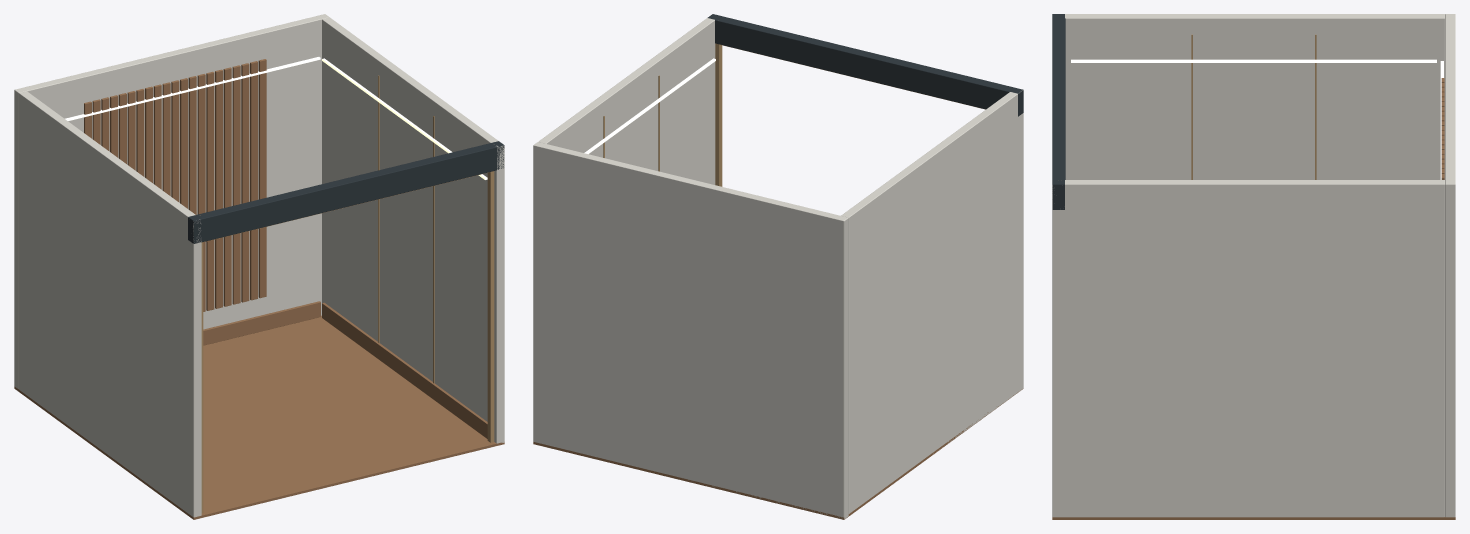
File: booth-10x10.glb
3 views of the same model, side by side, from view 1: azimuth 30°, elevation 25°; view 2: azimuth 150°, elevation 25°; view 3: azimuth 270°, elevation 25° (orthographic). The views are drawn at different scales.
Visible parts, largest first — view 1: mesh_side_-1, mesh_side_1, inset_oak_floor, mesh_rear, mesh_branding, oak_side_plinth_1, bronze_entry_post_1, rear_oak_plinth, oak_accent_slat_14, oak_accent_slat_18, oak_accent_slat_16, oak_accent_slat_17 (+16 smaller); view 2: mesh_rear, mesh_side_-1, mesh_side_1, mesh_branding, inset_oak_floor, bronze_entry_post_1, warm_side_wash_1; view 3: mesh_side_1, mesh_side_-1, mesh_rear, mesh_branding, warm_side_wash_-1, inset_oak_floor.
Part boxes in pixels (x1,y1,x2,y2): mesh_side_-1: [19, 91, 201, 517]; mesh_side_1: [322, 17, 504, 443]; inset_oak_floor: [14, 315, 504, 519]; mesh_rear: [14, 14, 329, 390]; mesh_branding: [188, 141, 504, 243]; oak_side_plinth_1: [322, 302, 487, 438]; bronze_entry_post_1: [487, 171, 494, 442]; rear_oak_plinth: [203, 301, 320, 345]; oak_accent_slat_14: [206, 71, 214, 310]; oak_accent_slat_18: [241, 63, 249, 302]; oak_accent_slat_16: [223, 67, 231, 306]; oak_accent_slat_17: [232, 65, 240, 304]; mesh_rear: [533, 142, 848, 519]; mesh_side_-1: [841, 90, 1023, 513]; mesh_side_1: [538, 18, 715, 184]; mesh_branding: [707, 14, 1023, 116]; inset_oak_floor: [533, 388, 1023, 519]; bronze_entry_post_1: [715, 43, 722, 186]; warm_side_wash_1: [584, 58, 715, 154]; mesh_side_1: [1052, 180, 1444, 517]; mesh_side_-1: [1065, 14, 1444, 179]; mesh_rear: [1445, 14, 1455, 517]; mesh_branding: [1052, 14, 1065, 209]; warm_side_wash_-1: [1071, 59, 1436, 62]; inset_oak_floor: [1052, 517, 1455, 519].
Bounding box in the file's own units: 3.05 × 2.8 × 3.05.
